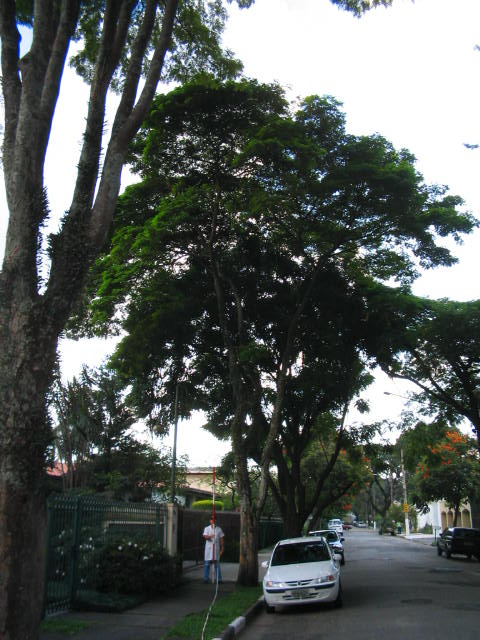stem: (232, 518, 264, 589)
stick: (208, 468, 220, 584)
tree: (71, 76, 479, 589)
